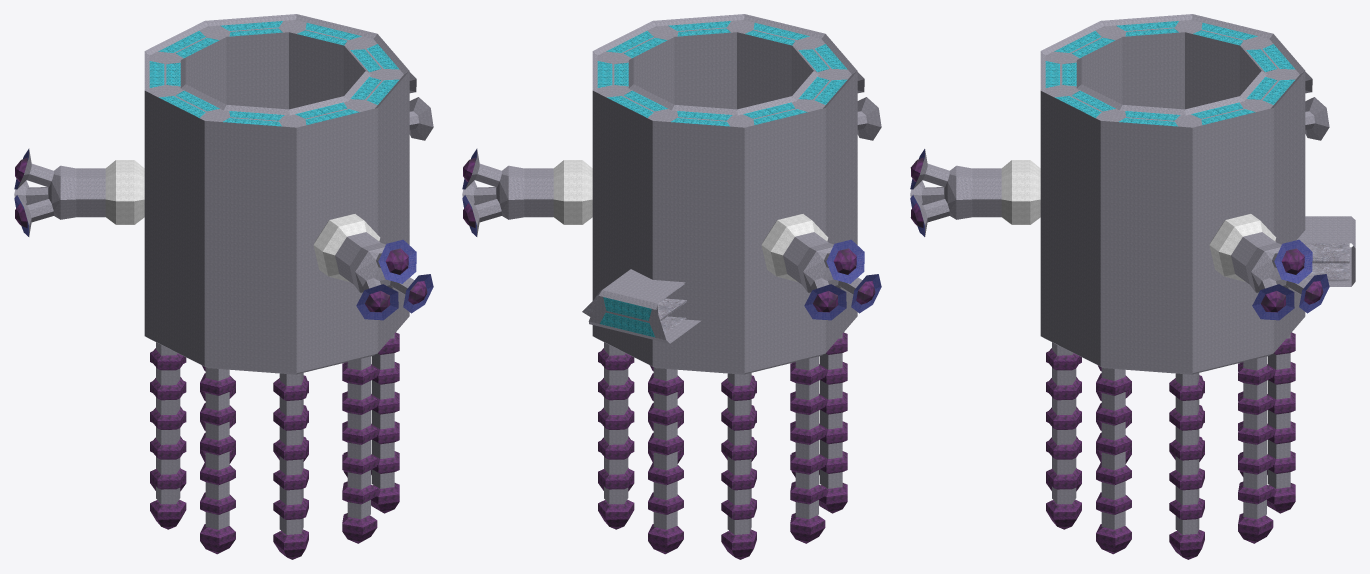
File: Orthoclase.fbx
3 views of the same model, side by side, from view 1: azimuth 30°, elevation 25°; view 2: azimuth 150°, elevation 25°; view 3: azimuth 270°, elevation 25° (orthographic).
Visible parts, largest first — view 1: outter ring_1, Levitator Arm 2.2_selection, Arm_7, Arm_6, Arm_5, Arm_8, Arm_4, Lower Crystal_6, Lower Crystal_4, Lower Crystal_7, Lower Crystal_5, Lower Crystal_3 (+20 smaller); view 2: outter ring_1, Levitator Arm 2.2_selection, outter ring, Arm, Arm_9, Arm_8, Arm_2, Arm_7, Lower Crystal, Lower Crystal_7, Lower Crystal_1, Lower Crystal_8 (+21 smaller); view 3: outter ring_1, Levitator Arm 2.2_selection, outter ring, Arm_4, Arm_3, Arm_2, Arm_5, Arm, Lower Crystal_3, Lower Crystal_1, Lower Crystal_2, Lower Crystal_4 (+16 smaller).
Part boxes in pixels (left/top/right/bottom): outter ring_1: left=144, top=14, right=409, bottom=374; Levitator Arm 2.2_selection: left=14, top=72, right=433, bottom=320; Arm_7: left=205, top=367, right=229, bottom=529; Arm_6: left=279, top=373, right=303, bottom=534; Arm_5: left=347, top=356, right=370, bottom=519; Arm_8: left=156, top=342, right=180, bottom=504; Arm_4: left=371, top=334, right=394, bottom=488; Lower Crystal_6: left=200, top=524, right=235, bottom=554; Lower Crystal_4: left=342, top=513, right=377, bottom=543; Lower Crystal_7: left=150, top=499, right=186, bottom=529; Lower Crystal_5: left=273, top=529, right=308, bottom=559; Lower Crystal_3: left=371, top=483, right=399, bottom=513; outter ring_1: left=592, top=14, right=857, bottom=374; Levitator Arm 2.2_selection: left=462, top=72, right=881, bottom=320; outter ring: left=582, top=269, right=701, bottom=343; Arm: left=653, top=367, right=677, bottom=529; Arm_9: left=727, top=373, right=751, bottom=534; Arm_8: left=795, top=356, right=818, bottom=519; Arm_2: left=604, top=342, right=628, bottom=504; Arm_7: left=819, top=334, right=842, bottom=488; Lower Crystal: left=648, top=524, right=683, bottom=554; Lower Crystal_7: left=790, top=513, right=825, bottom=543; Lower Crystal_1: left=598, top=499, right=634, bottom=529; Lower Crystal_8: left=721, top=529, right=756, bottom=559; outter ring_1: left=1040, top=14, right=1305, bottom=374; Levitator Arm 2.2_selection: left=910, top=72, right=1329, bottom=320; outter ring: left=1297, top=216, right=1355, bottom=286; Arm_4: left=1101, top=367, right=1125, bottom=529; Arm_3: left=1175, top=373, right=1199, bottom=534; Arm_2: left=1243, top=356, right=1266, bottom=519; Arm_5: left=1052, top=342, right=1076, bottom=504; Arm: left=1267, top=334, right=1290, bottom=488; Lower Crystal_3: left=1096, top=524, right=1131, bottom=554; Lower Crystal_1: left=1238, top=513, right=1273, bottom=543; Lower Crystal_2: left=1169, top=529, right=1204, bottom=559; Lower Crystal_4: left=1046, top=499, right=1081, bottom=529.
Size of the model in its own units: 230 by 238 by 217.
Materials: 5 (5 with a texture image).
